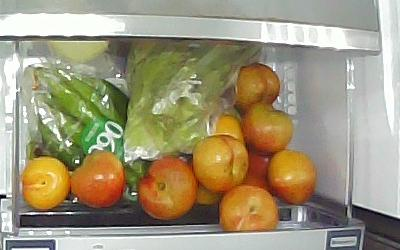prune: (137, 157, 197, 221), (192, 134, 249, 193), (70, 149, 126, 208), (219, 184, 280, 233), (267, 150, 319, 205), (241, 104, 295, 156), (22, 155, 69, 211), (233, 63, 280, 107), (245, 144, 279, 196), (213, 114, 246, 148), (195, 183, 221, 206)
